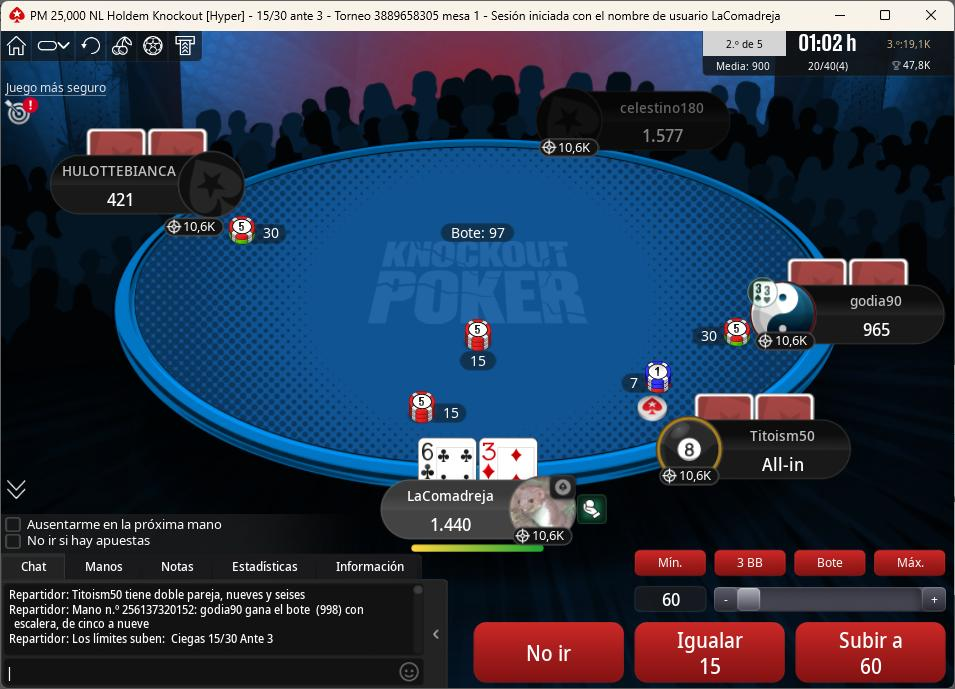ButtonCall: (633, 619, 788, 687)
ButtonFold: (475, 621, 641, 684)
ButtonMaxRaise: (874, 550, 948, 579)
ButtonMinRaise: (633, 546, 710, 584)
ButtonPotRaise: (792, 546, 870, 580)
ButtonRaise: (792, 621, 949, 686)
Dealer: (634, 391, 675, 425)
HiddenCards: (83, 131, 208, 161), (694, 392, 818, 422), (786, 257, 911, 286)
Player: (652, 417, 850, 487), (749, 281, 945, 350), (48, 152, 245, 217), (544, 93, 732, 158)
PlayerBet: (617, 355, 685, 397), (690, 316, 754, 349), (233, 215, 293, 248)
PlayerChips: (754, 453, 811, 477), (637, 125, 693, 145), (858, 321, 898, 343), (101, 190, 139, 211)
Pot: (440, 223, 517, 243)
PrincipalBet: (406, 390, 469, 425)
PrincipalCards: (414, 436, 540, 484)
PrincipalCards1: (416, 436, 477, 483)
PrincipalCards2: (477, 437, 539, 485)
PrincipalPlayer: (379, 471, 578, 547)
PrincipalPlayerChips: (429, 510, 474, 535)
SmallBigBlind: (246, 3, 333, 28)
TablePot: (454, 310, 512, 382)
